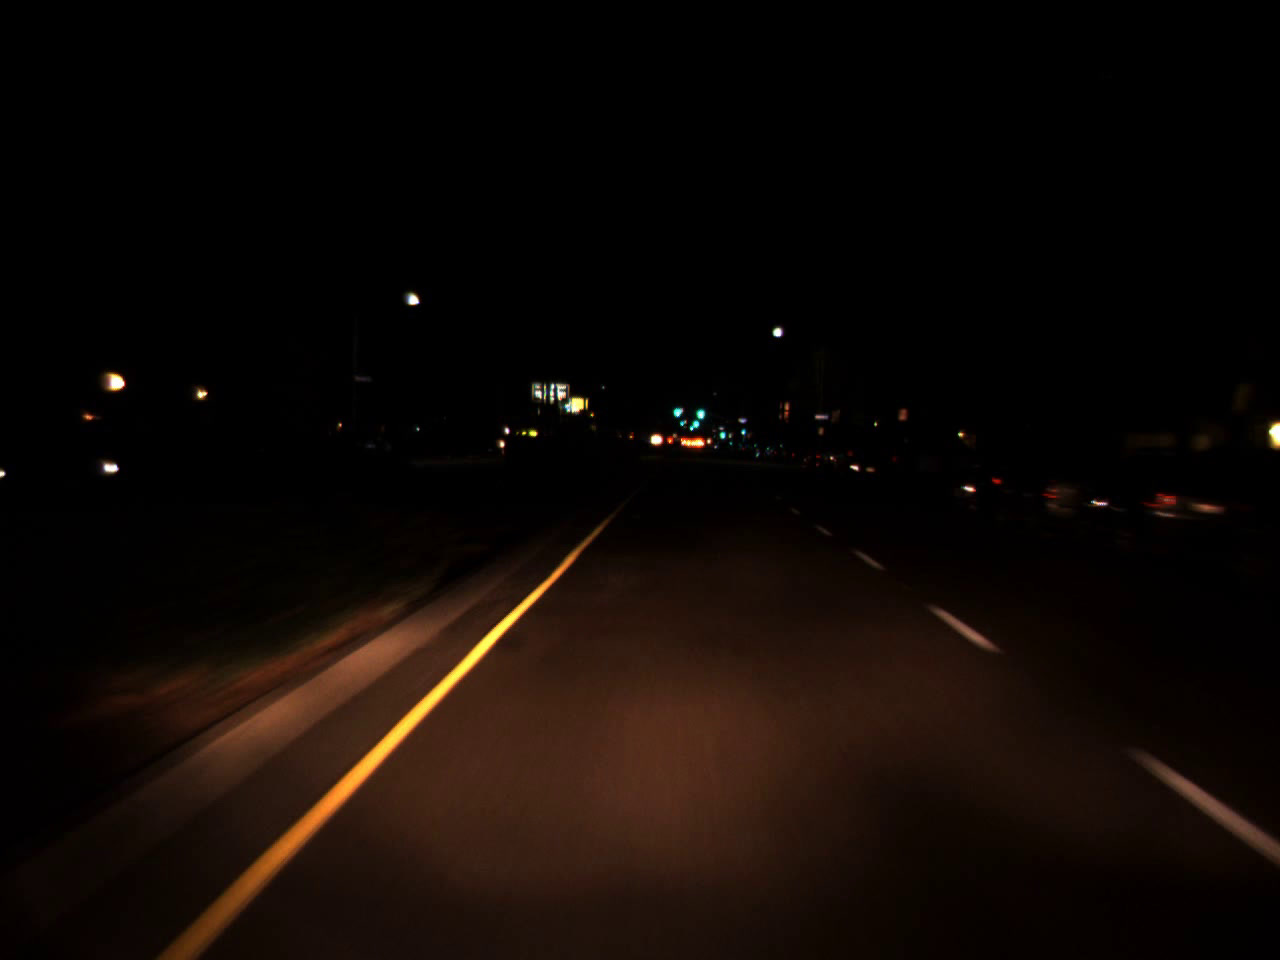go: (695, 396, 705, 423), (671, 398, 681, 419), (691, 412, 700, 430), (677, 413, 687, 425), (718, 425, 725, 440), (739, 423, 746, 435)
